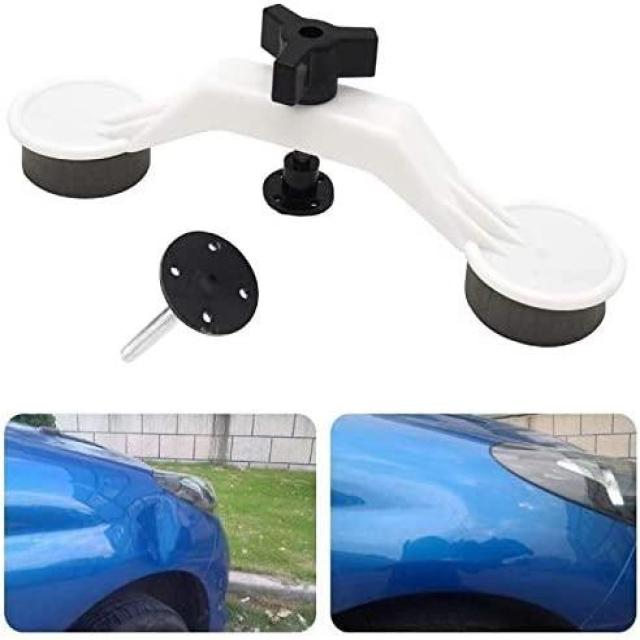dent: (125, 492, 196, 572)
